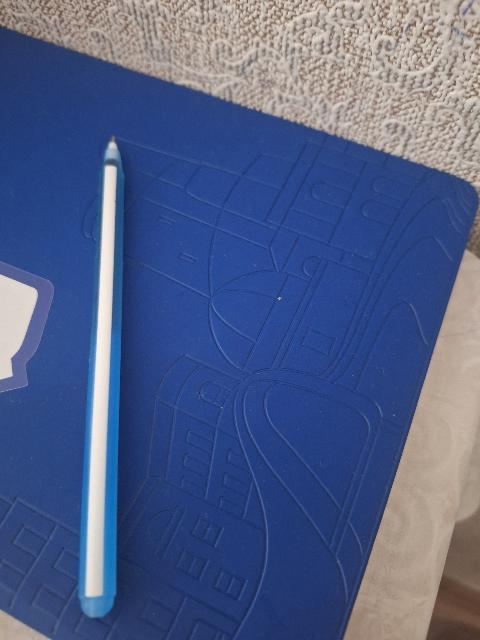writing_tool: (77, 124, 131, 626)
